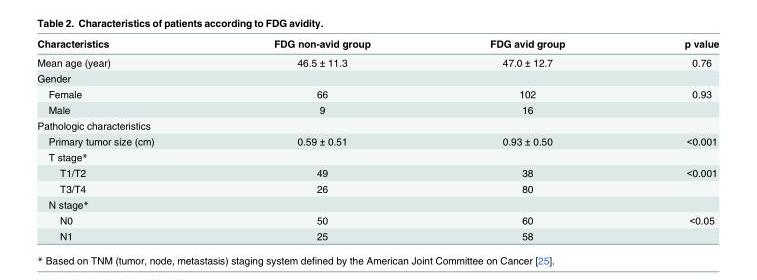table: (36, 36, 718, 241)
table column: (213, 36, 429, 241), (429, 36, 624, 241), (36, 36, 213, 241), (624, 36, 718, 241)
table column header: (36, 36, 718, 52)
table projected row header: (36, 69, 718, 85), (36, 117, 718, 133), (36, 148, 718, 164), (36, 196, 718, 212)
table row: (36, 52, 718, 69), (36, 36, 718, 52), (36, 69, 718, 85), (36, 85, 718, 101), (36, 101, 718, 117), (36, 117, 718, 133), (36, 148, 718, 164), (36, 164, 718, 180), (36, 180, 718, 196), (36, 196, 718, 212), (36, 133, 718, 148), (36, 212, 718, 227), (36, 227, 718, 241)
